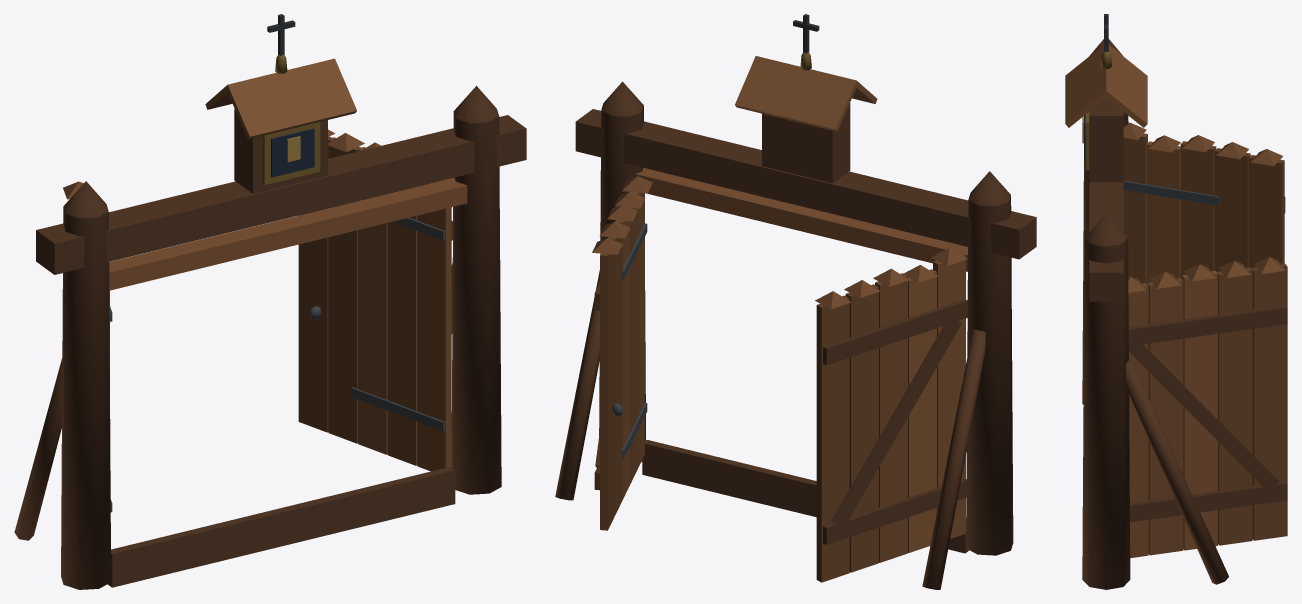
The model's file is brama.glb.
3 renders of one model, left to right at view 1: azimuth 30°, elevation 25°; view 2: azimuth 150°, elevation 25°; view 3: azimuth 270°, elevation 25°, orthographic. The views are drawn at different scales.
Visible parts, largest first — view 1: brama; view 2: brama; view 3: brama.
Boxes of the visible parts, x1,y1,x2,y2 form: brama: [14, 14, 526, 589]; brama: [555, 14, 1036, 589]; brama: [1065, 14, 1287, 589].
Bounding box in the file's own units: 4.4 × 4.71 × 1.95.
